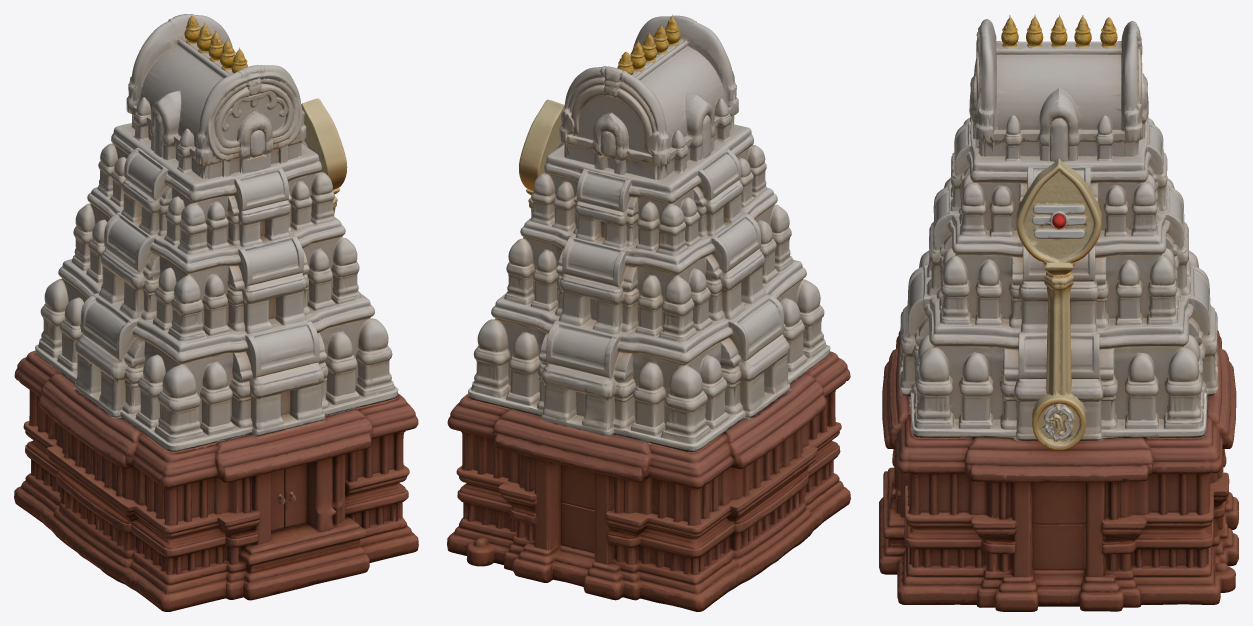
Rendered from gopuram-layered.glb.
The picture shows the model from 3 angles, left to right: view 1: azimuth 30°, elevation 25°; view 2: azimuth 150°, elevation 25°; view 3: azimuth 270°, elevation 25°; orthographic projection. The views are drawn at different scales.
Visible parts, largest first — view 1: tripo_node_098af307-a201-4d62-bd5c-55a324501bb5; view 2: tripo_node_098af307-a201-4d62-bd5c-55a324501bb5; view 3: tripo_node_098af307-a201-4d62-bd5c-55a324501bb5.
Boxes of the visible parts, x1,y1,x2,y2 form: tripo_node_098af307-a201-4d62-bd5c-55a324501bb5: [14, 14, 418, 611]; tripo_node_098af307-a201-4d62-bd5c-55a324501bb5: [447, 14, 850, 611]; tripo_node_098af307-a201-4d62-bd5c-55a324501bb5: [879, 14, 1238, 611].
Size of the model in its own units: 0.582 by 0.9782 by 0.6067.
Materials: 1 (1 with a texture image).
